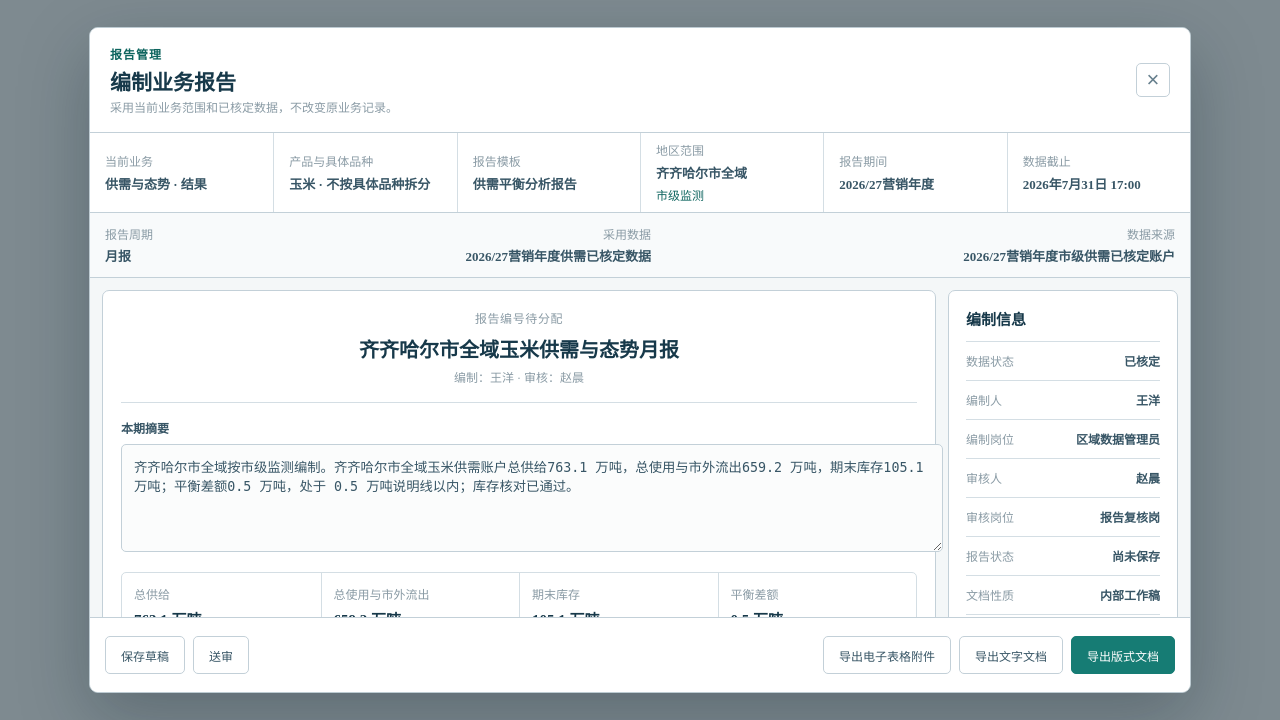
Test: business report composer › persists every report coordinate and every save and submit event
Click the button "保存草稿" at coordinates (145, 655), box [105,636,185,674]
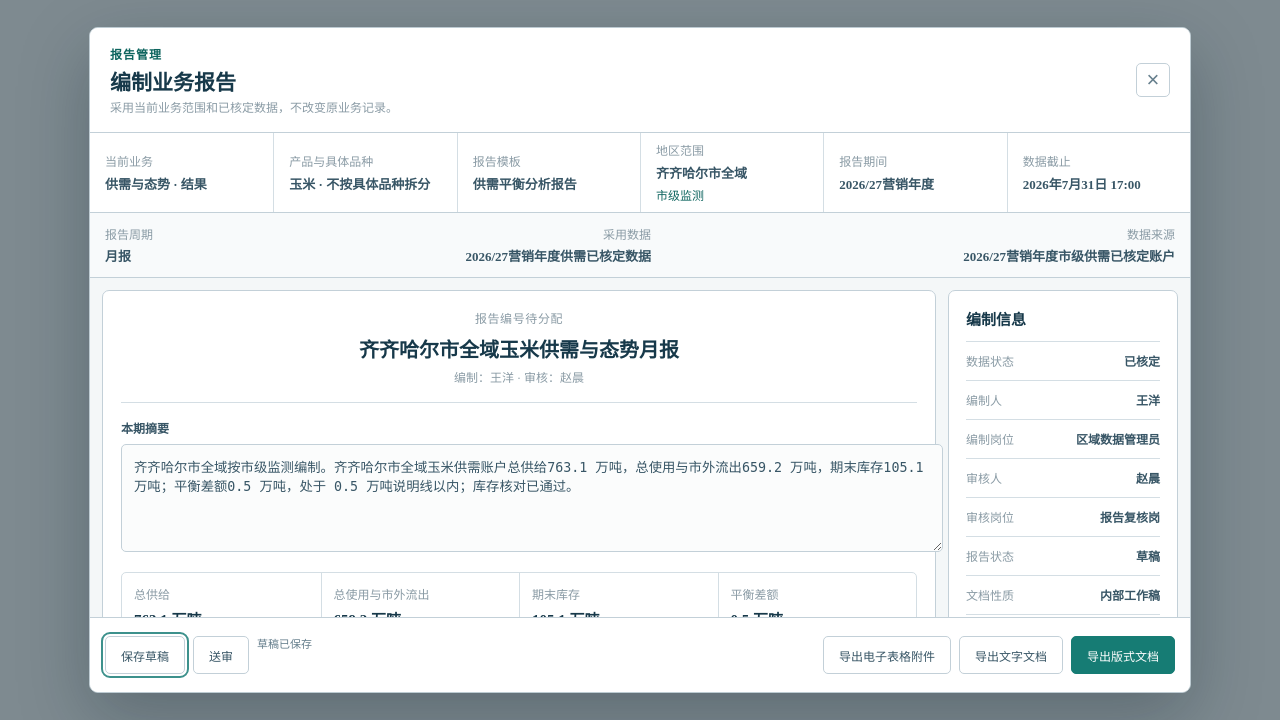
Now the text "草稿已保存" is shown, box [257,638,312,650]
Click the button "送审" at coordinates (221, 655), box [193,636,249,674]
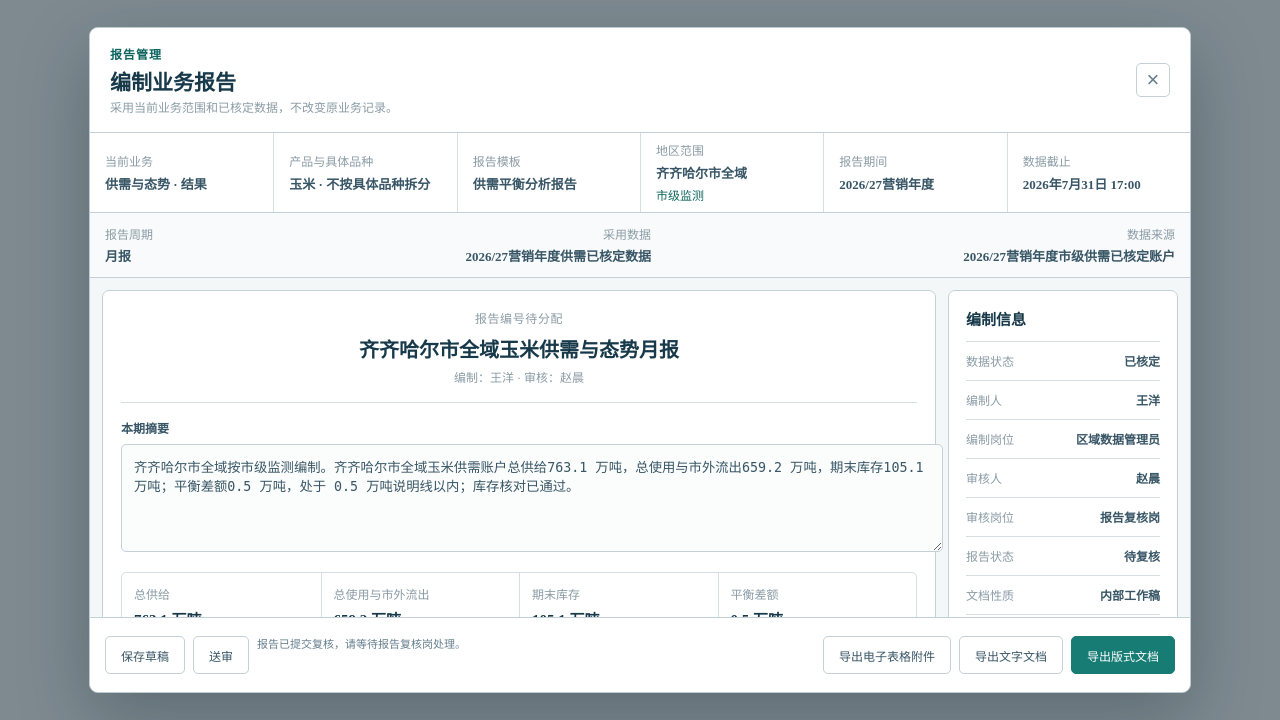
Expected: the text "报告复核岗" is shown, [1100,508,1160,526]
Now the text "待复核" is shown, box [1124,547,1160,565]
